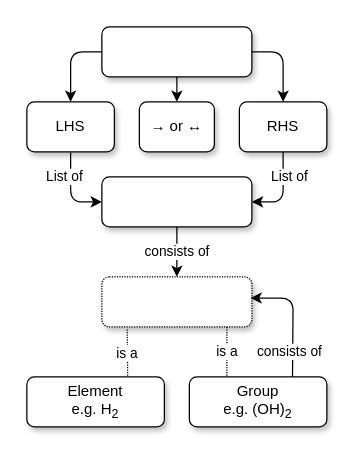
Some shapes in this 356 by 458 pixel diagram are drawn without their labels. The shapes that lost their labels are listed below. From the top down, each one's centre as x and y in pixels, then its label:
(x=177, y=53): Chemical Equation
(x=177, y=203): Molecule e.g. 2CH 3 OH
(x=177, y=303): Molecular Part
